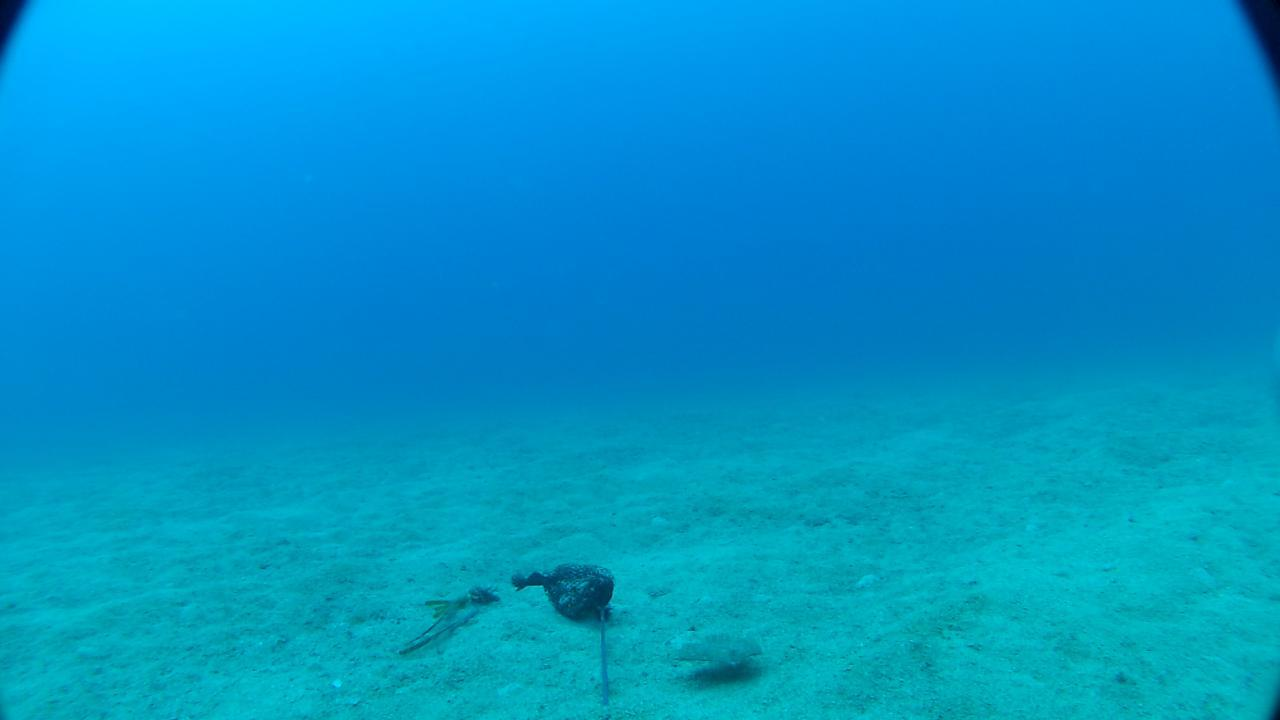bothus: (674, 628, 769, 668)
